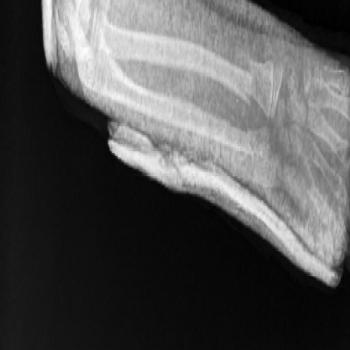Fracture: (245, 59, 258, 112)
